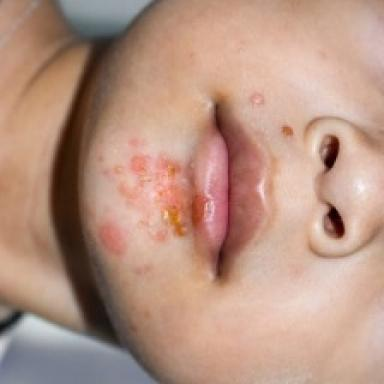Impetigo: (106, 135, 212, 245), (99, 224, 126, 255), (280, 123, 295, 137)
